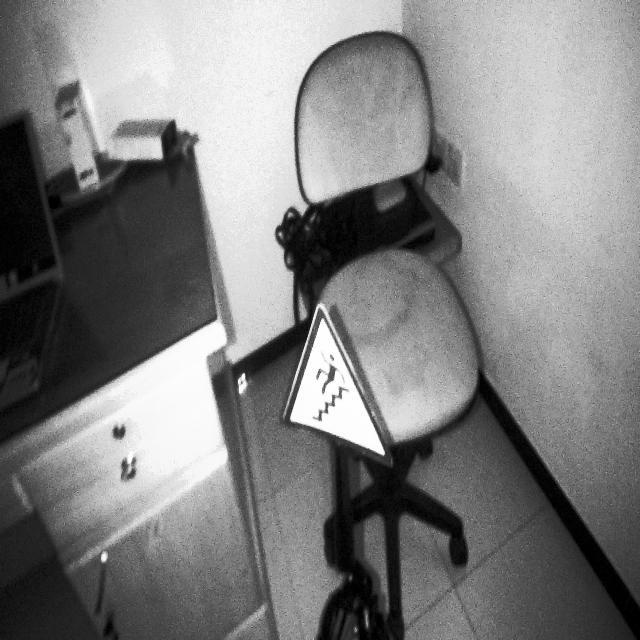Sign: (281, 301, 395, 469)
